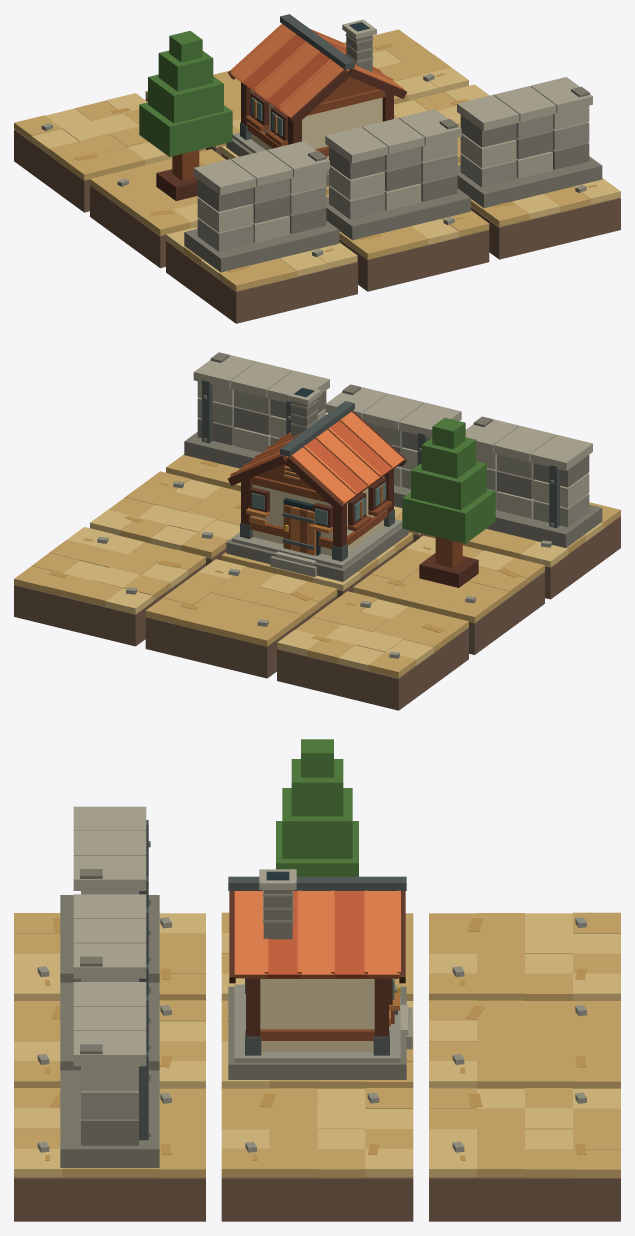
File: sample_diorama.glb
The picture shows the model from 3 angles, top to bottom: view 1: azimuth 30°, elevation 25°; view 2: azimuth 150°, elevation 25°; view 3: azimuth 270°, elevation 25°; orthographic projection. The views are drawn at different scales.
Visible parts, largest first — view 1: earth_bank.009, earth_bank.011, earth_bank.010, footing.001, tree_crown.004, footing.003, footing.002, earth_bank.006, tree_crown.005, earth_bank.003, plaster.001, tree_crown.006 (+88 smaller); view 2: earth_bank.003, earth_bank.004, earth_bank.005, tree_crown.004, tree_crown.005, earth_bank.009, earth_bank.006, footing.001, foundation.001, tree_crown.006, plaster.001, foundation_cap.001 (+114 smaller); view 3: earth_bank.008, earth_bank.011, earth_bank.005, plaster.001, footing.003, foundation.001, tree_crown.005, foundation_cap.001, sheet_roof.016, sheet_roof.019, sheet_roof.015, sheet_roof.017 (+112 smaller).
Part boxes in pixels (box(x1,y1,x2,y2)): earth_bank.009: box(166, 241, 357, 323); earth_bank.011: box(471, 197, 620, 259); earth_bank.010: box(339, 230, 489, 291); footing.001: box(184, 220, 339, 272); tree_crown.004: box(139, 102, 232, 156); footing.003: box(457, 156, 602, 208); footing.002: box(325, 188, 470, 240); earth_bank.006: box(90, 185, 195, 268); tree_crown.005: box(148, 74, 223, 123); earth_bank.003: box(14, 129, 89, 212); plaster.001: box(250, 89, 382, 159); tree_crown.006: box(158, 50, 213, 91); earth_bank.003: box(277, 627, 468, 710); earth_bank.004: box(145, 595, 337, 678); earth_bank.005: box(14, 563, 205, 646); tree_crown.004: box(402, 489, 495, 543); tree_crown.005: box(411, 461, 486, 510); earth_bank.009: box(544, 516, 620, 599); earth_bank.006: box(469, 572, 544, 654); footing.001: box(486, 504, 602, 547); foundation.001: box(226, 525, 408, 581); tree_crown.006: box(421, 437, 476, 478); plaster.001: box(252, 476, 384, 556); foundation_cap.001: box(232, 519, 402, 568); earth_bank.008: box(221, 1177, 413, 1221); earth_bank.011: box(14, 1177, 205, 1221); earth_bank.005: box(429, 1177, 620, 1221); plaster.001: box(260, 979, 374, 1052); footing.003: box(60, 1070, 159, 1167); foundation.001: box(228, 986, 406, 1079); tree_crown.005: box(282, 788, 352, 858); foundation_cap.001: box(234, 984, 400, 1062); sheet_roof.016: box(334, 891, 366, 978); sheet_roof.019: box(234, 891, 267, 978); sheet_roof.015: box(367, 891, 400, 978); sheet_roof.017: box(301, 891, 333, 978).
Size of the model in its own units: 2.93 by 1.38 by 2.93.
